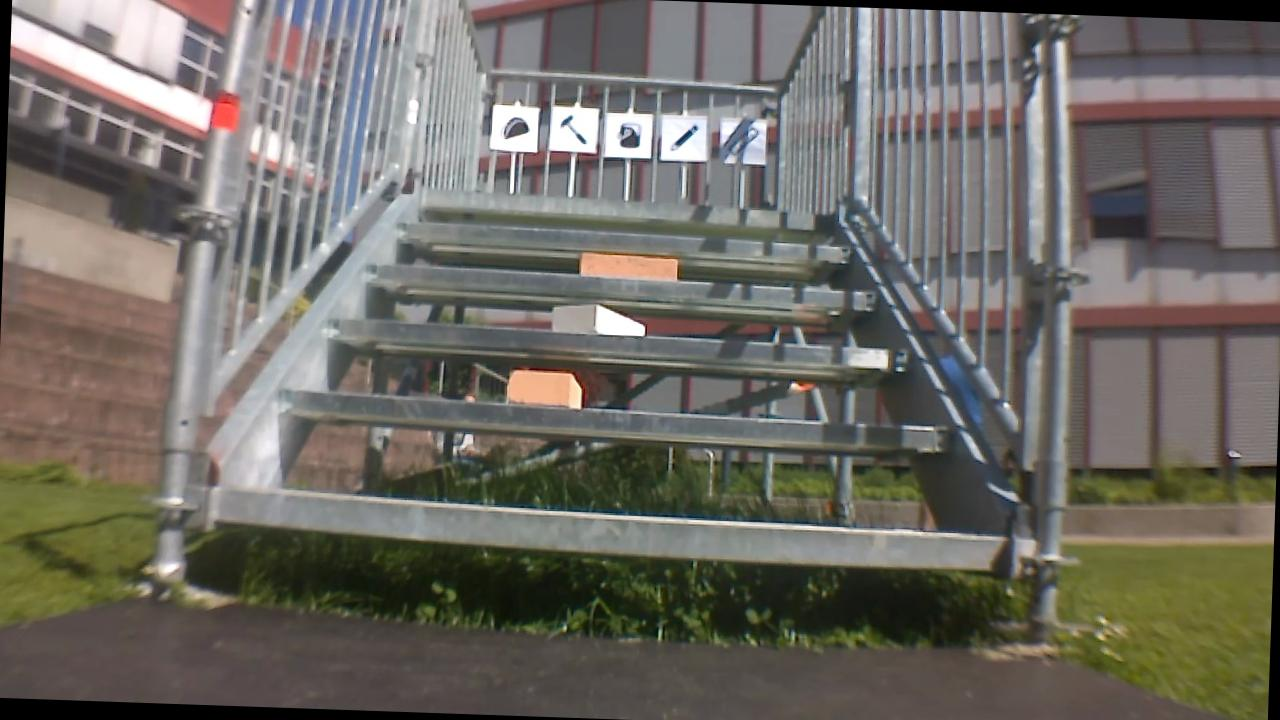brick: (570, 249, 683, 281), (551, 301, 643, 335), (504, 372, 582, 404)
bucket: (607, 118, 646, 149)
edge: (204, 502, 1012, 571), (277, 387, 952, 452), (322, 317, 910, 365), (356, 269, 881, 311), (393, 222, 850, 263), (416, 190, 839, 226)
hammer: (553, 110, 591, 142)
pencil: (668, 120, 700, 150)
ruler: (727, 121, 760, 156)
steps: (212, 182, 1036, 563)
taco: (502, 113, 531, 142)
